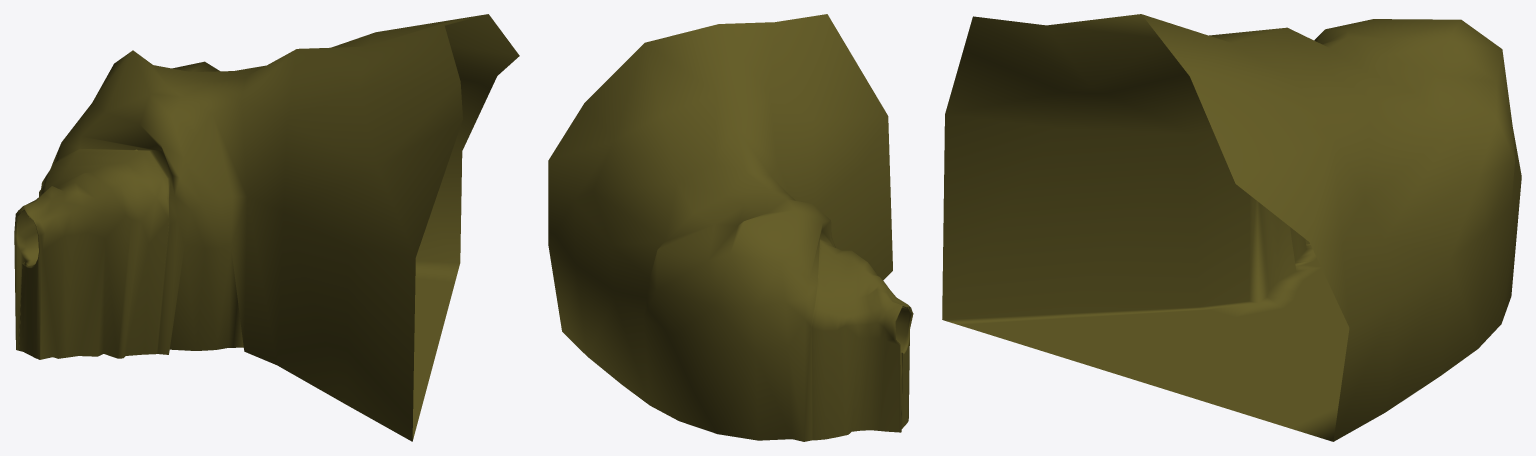
Rendered from arena4.fbx.
3 renders of one model, left to right at view 1: azimuth 30°, elevation 25°; view 2: azimuth 150°, elevation 25°; view 3: azimuth 270°, elevation 25°, orthographic. The views are drawn at different scales.
Parts seen in each view (by area): view 1: Tunnel; view 2: Tunnel; view 3: Tunnel.
Boxes of the visible parts, x1,y1,x2,y2 form: Tunnel: [14, 14, 519, 441]; Tunnel: [548, 14, 913, 441]; Tunnel: [942, 14, 1521, 441].
Bounding box in the file's own units: 16214 × 11246 × 15883.
